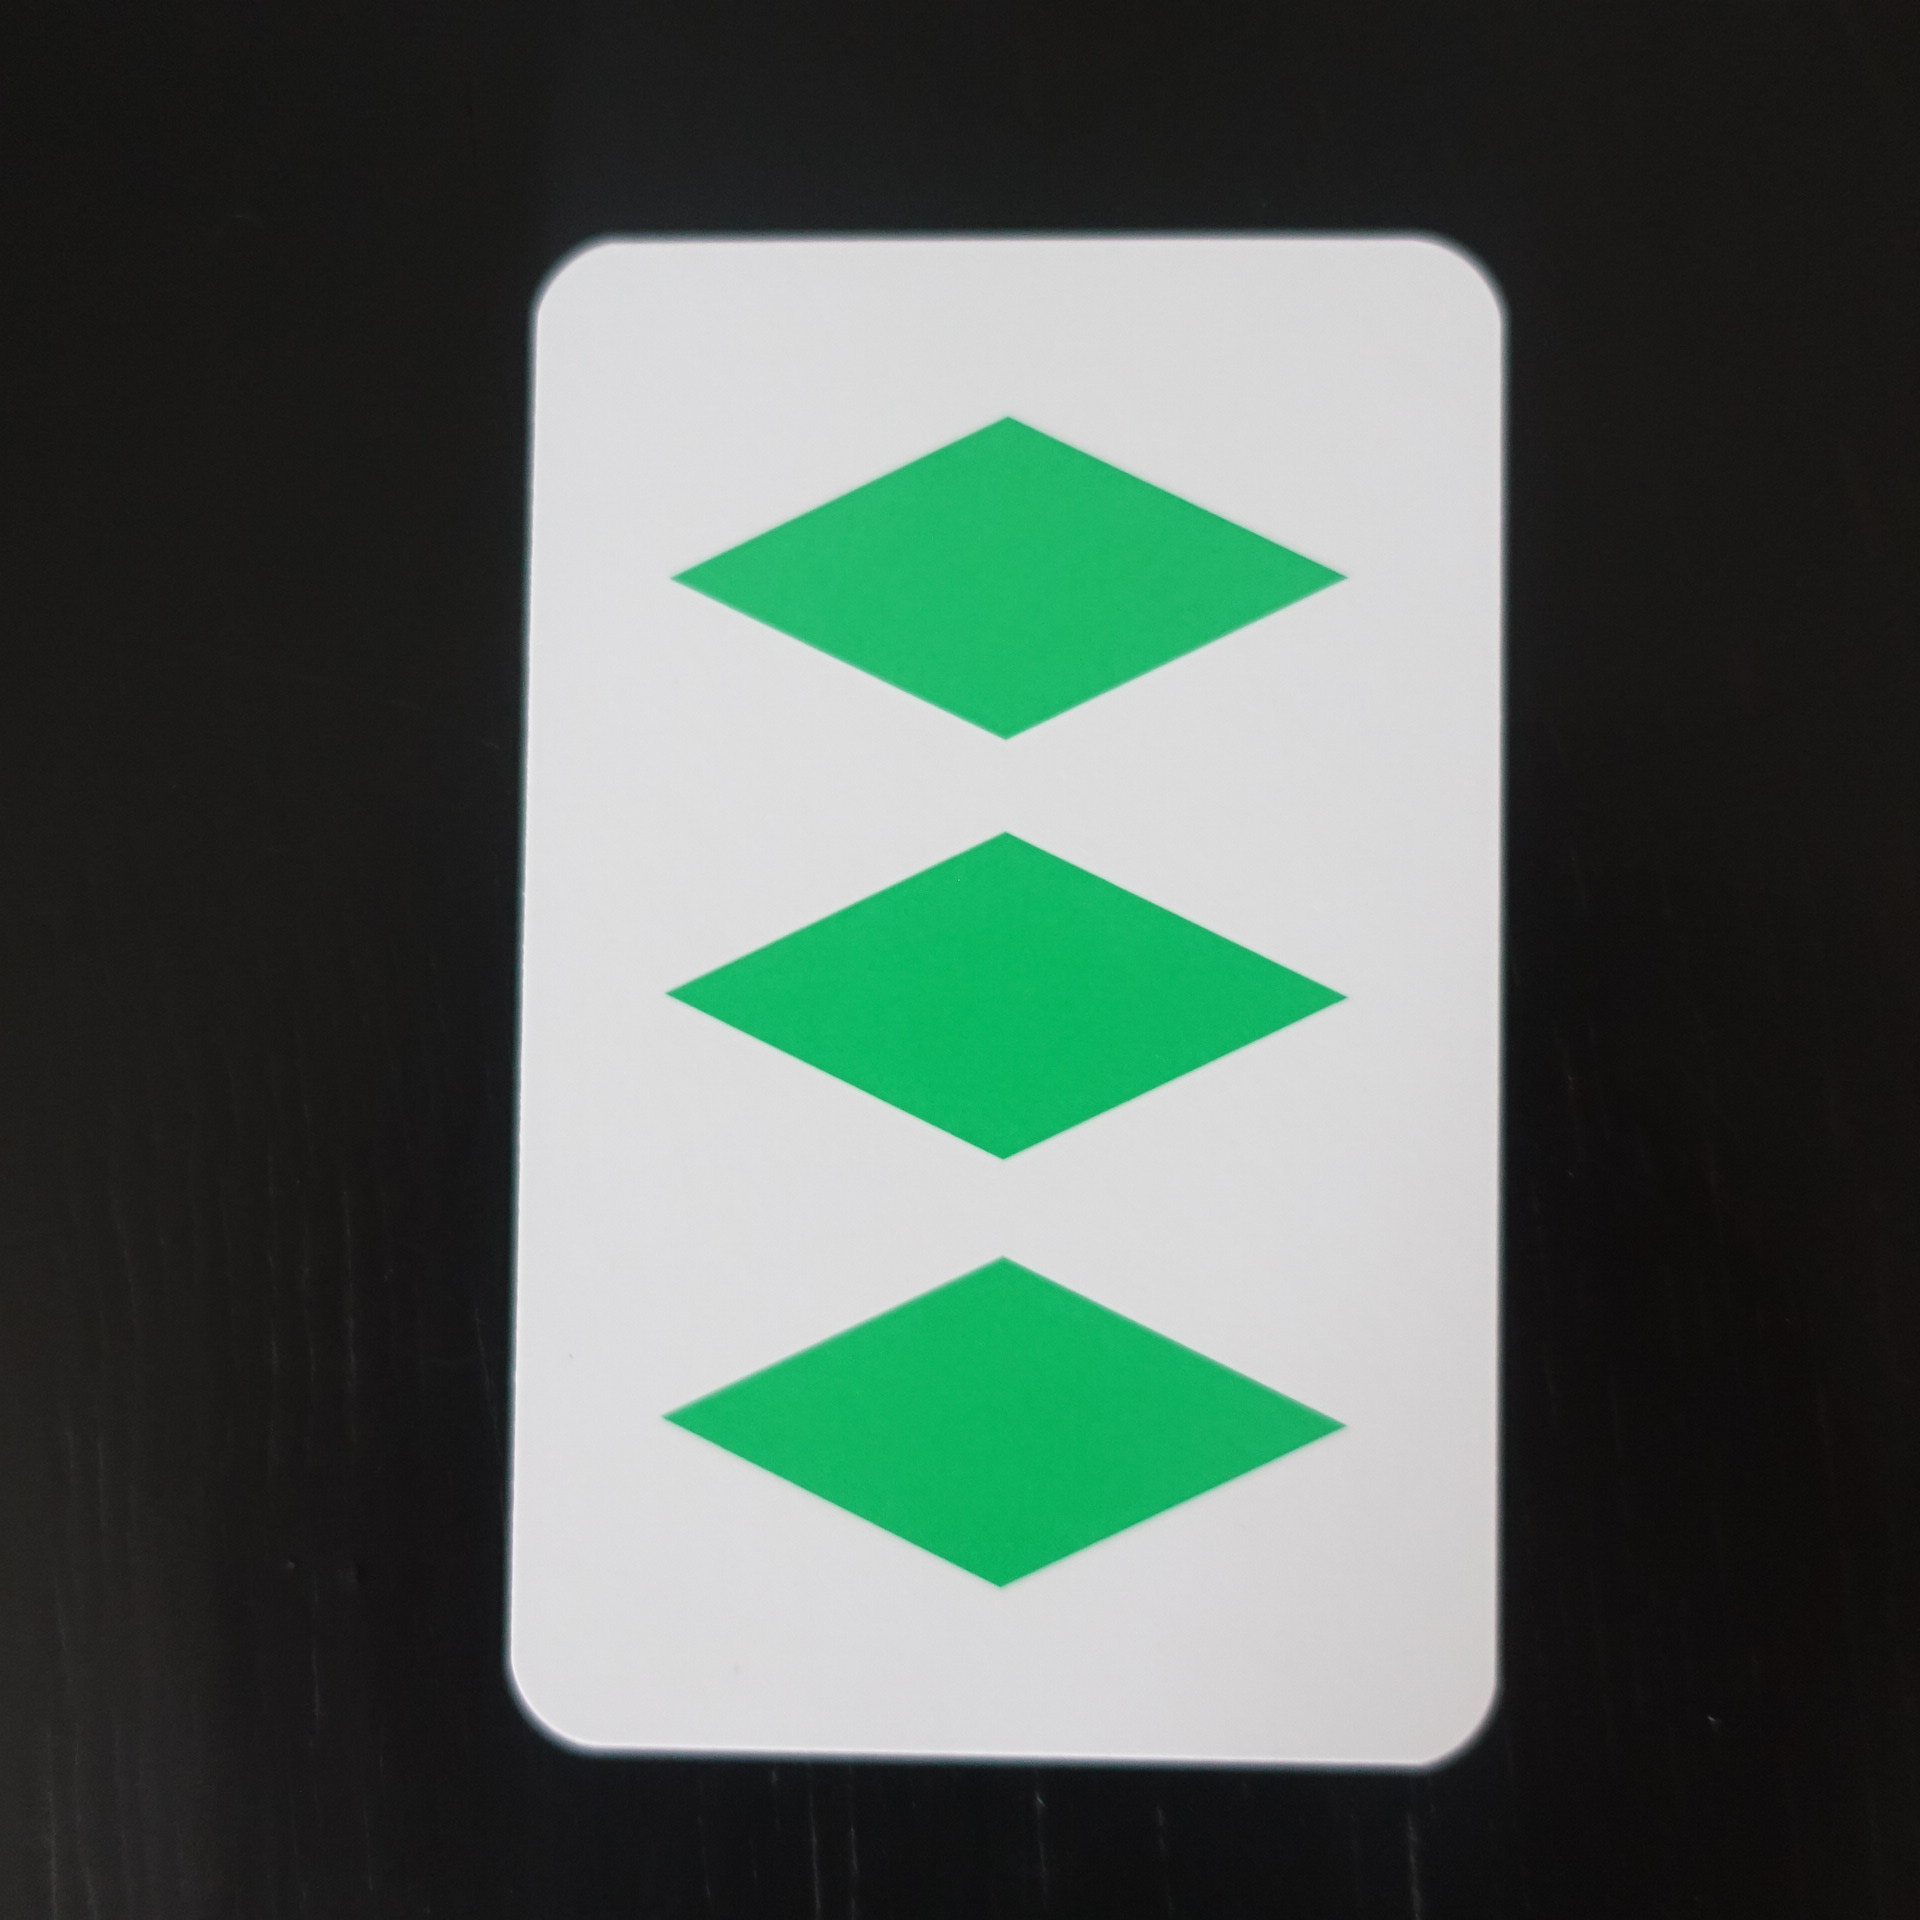c-2-f-d-r: (484, 216, 1528, 1788)
